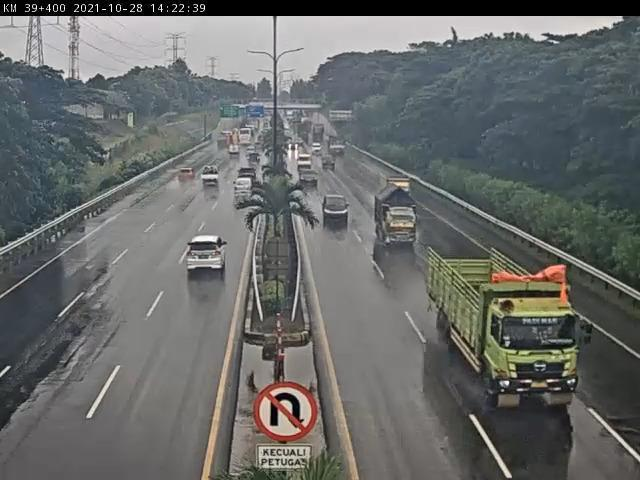car: (188, 235, 227, 275), (322, 194, 353, 225), (299, 167, 319, 189), (233, 179, 254, 196), (202, 167, 221, 184), (176, 166, 195, 182), (238, 168, 257, 183), (321, 156, 337, 172)
truck: (427, 248, 580, 411), (376, 181, 423, 247)
